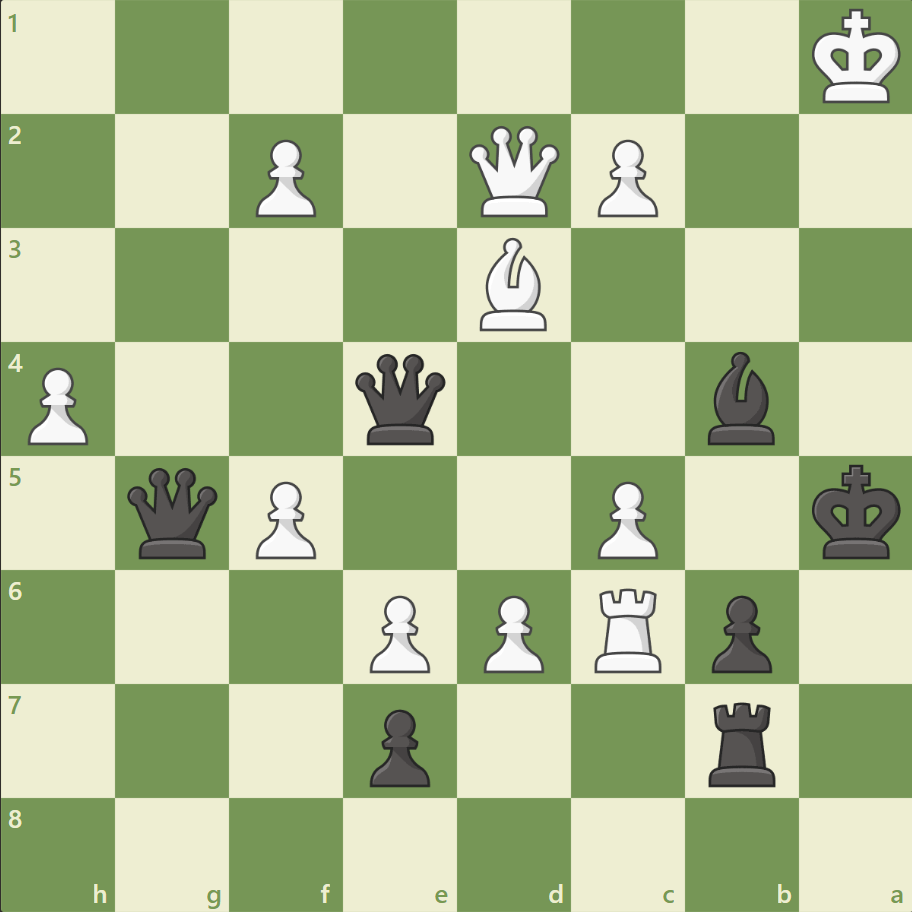B: (471, 233, 555, 336)
K: (806, 4, 906, 112)
P: (474, 586, 549, 677), (247, 473, 322, 564), (20, 359, 95, 450), (247, 132, 322, 223), (361, 586, 435, 677), (588, 473, 662, 564), (588, 132, 662, 223)
Q: (464, 122, 563, 222)
R: (587, 579, 670, 676)
b: (698, 347, 782, 449)
k: (806, 458, 906, 566)
p: (701, 586, 776, 677), (361, 700, 435, 791)
q: (351, 349, 450, 449), (124, 463, 223, 562)
r: (700, 693, 783, 790)
